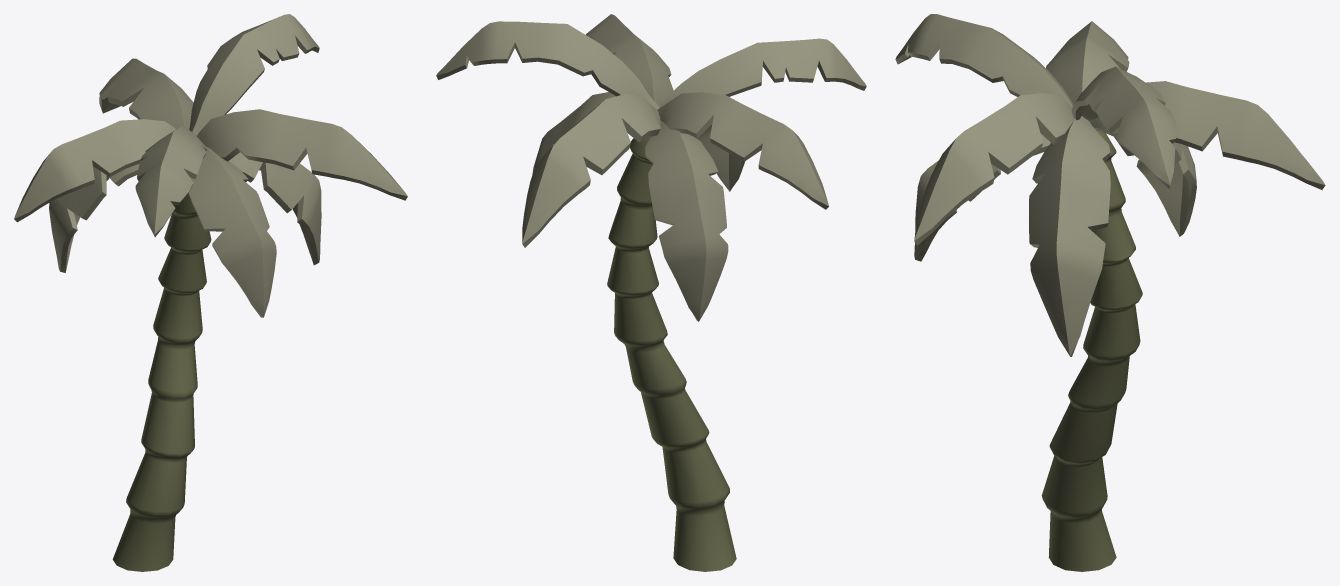
File: Environment_PalmTree_1.glb
The picture shows the model from 3 angles, left to right: view 1: azimuth 30°, elevation 25°; view 2: azimuth 150°, elevation 25°; view 3: azimuth 270°, elevation 25°; orthographic projection. The views are drawn at different scales.
Visible parts, largest first — view 1: Environment_PalmTree_1; view 2: Environment_PalmTree_1; view 3: Environment_PalmTree_1.
Part boxes in pixels (x1,y1,x2,y2): Environment_PalmTree_1: (14, 14, 407, 571); Environment_PalmTree_1: (436, 14, 866, 571); Environment_PalmTree_1: (895, 14, 1325, 571).
Size of the model in its own units: 2.61 by 3.59 by 2.52.
1 material, 1 textured.
